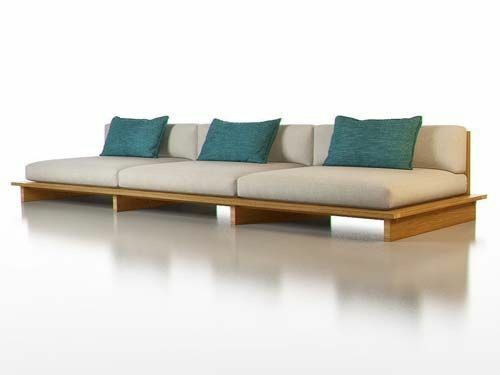3seatersofa: (13, 116, 484, 240)
backrest: (269, 125, 332, 164), (414, 126, 466, 171), (160, 124, 209, 159), (104, 125, 109, 138)
base: (13, 181, 486, 217)
leg: (384, 201, 475, 241), (231, 206, 327, 223), (21, 187, 88, 202), (113, 196, 172, 211)
pillow: (324, 116, 420, 168), (198, 119, 280, 163), (101, 116, 167, 157)
seat: (26, 155, 464, 209)
